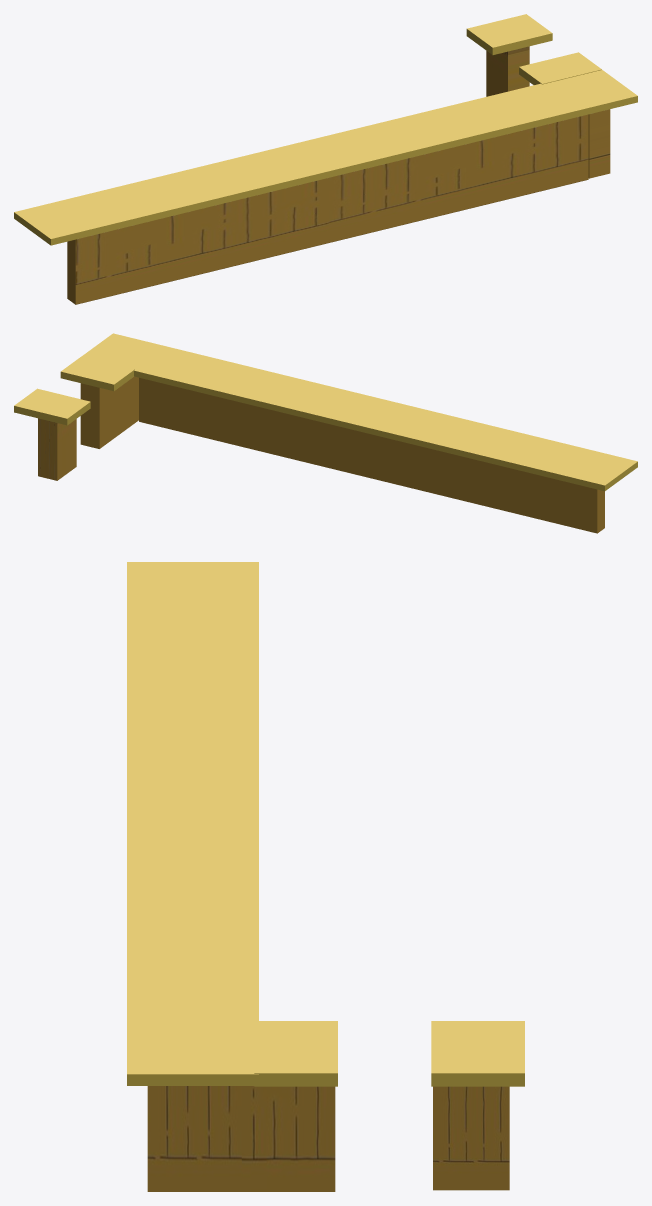
Rendered from barrabien1.obj.
The picture shows the model from 3 angles, top to bottom: view 1: azimuth 30°, elevation 25°; view 2: azimuth 150°, elevation 25°; view 3: azimuth 270°, elevation 25°; orthographic projection. The views are drawn at different scales.
Parts seen in each view (by area): view 1: barrabien1:polySurface7; view 2: barrabien1:polySurface7; view 3: barrabien1:polySurface7.
Part boxes in pixels (left/top/right/bottom): barrabien1:polySurface7: left=14, top=14, right=637, bottom=304; barrabien1:polySurface7: left=14, top=333, right=637, bottom=533; barrabien1:polySurface7: left=127, top=562, right=524, bottom=1191.
Size of the model in its own units: 14.01 by 1.78 by 4.6.
Materials: 13 (12 with a texture image).
